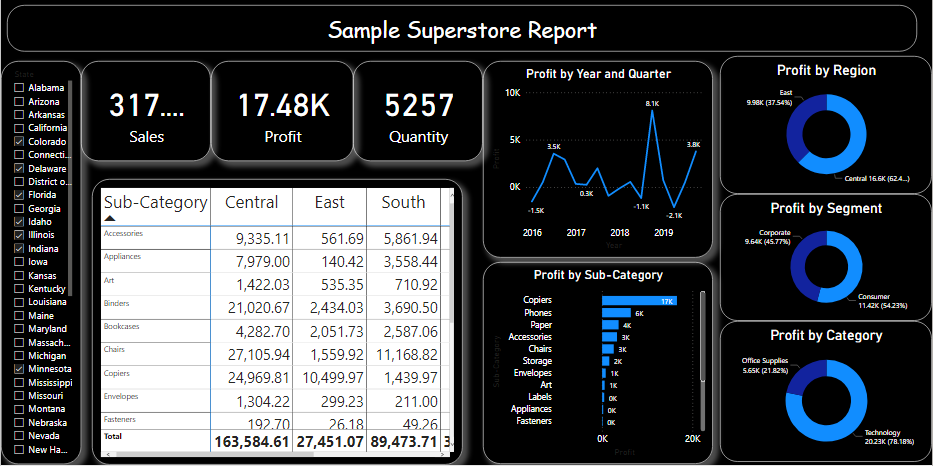

The dashboard page shown, as its layout file describes it:
{"tool":"powerbi","page":{"name":"10.1 Simple super store report","canvas":[1600,800],"ordinal":0},"visuals":[{"type":"textbox","box":[10.4,10.4,1564.4,80.1],"z":0},{"type":"donutChart","fields":{"Category":["Orders.Category"],"Y":["Sum(Orders.Profit)"]},"box":[1236.4,553.6,363.6,241.9],"z":1000},{"type":"donutChart","fields":{"Y":["Sum(Orders.Profit)"],"Category":["Orders.Segment"]},"box":[1236.4,335.4,363.6,218.2],"z":2000},{"type":"donutChart","fields":{"Y":["Sum(Orders.Profit)"],"Category":["Orders.Region"]},"box":[1236.4,98,363.6,237.5],"z":3000},{"type":"barChart","fields":{"Category":["Orders.Sub-Category"],"Y":["Sum(Orders.Profit)"]},"box":[828.2,452.7,394.8,347.3],"z":4000},{"type":"lineChart","fields":{"Category":["Orders.Order Date.Variation.Date Hierarchy.Year","Orders.Order Date.Variation.Date Hierarchy.Quarter","Orders.Order Date.Variation.Date Hierarchy.Month","Orders.Order Date.Variation.Date Hierarchy.Day"],"Y":["Sum(Orders.Profit)"]},"box":[828.2,106.9,394.8,338.4],"z":5000},{"type":"slicer","fields":{"Values":["Orders.State"]},"box":[0,106.9,138,693.1],"z":6000},{"type":"pivotTable","fields":{"Rows":["Orders.Sub-Category"],"Columns":["Orders.Region"],"Values":["Sum(Orders.Sales)"]},"box":[155.8,308.7,636.7,491.3],"z":7000},{"type":"card","fields":{"Values":["Sum(Orders.Sales)"]},"box":[138,106.9,222.6,172.2],"z":8000},{"type":"card","fields":{"Values":["Sum(Orders.Profit)"]},"box":[360.7,106.9,244.9,172.2],"z":9000},{"type":"card","fields":{"Values":["Sum(Orders.Quantity)"]},"box":[605.6,106.9,222.6,172.2],"z":10000}]}

Visuals, with their boxes in screenshot pixels (x1, y1, x2, y2), scaled from the page's 1600x800 canvas onto the 933x466 screenshot:
textbox: region(6, 6, 918, 53)
donutChart - Orders.Category x Sum(Orders.Profit): region(721, 322, 932, 463)
donutChart - Sum(Orders.Profit) x Orders.Segment: region(721, 195, 932, 322)
donutChart - Sum(Orders.Profit) x Orders.Region: region(721, 57, 932, 195)
barChart - Orders.Sub-Category x Sum(Orders.Profit): region(483, 264, 713, 465)
lineChart - Orders.Order Date.Variation.Date Hierarchy.Year x Orders.Order Date.Variation.Date Hierarchy.Quarter: region(483, 62, 713, 259)
slicer - Orders.State: region(0, 62, 80, 465)
pivotTable - Orders.Sub-Category x Orders.Region: region(91, 180, 462, 465)
card - Sum(Orders.Sales): region(80, 62, 210, 163)
card - Sum(Orders.Profit): region(210, 62, 353, 163)
card - Sum(Orders.Quantity): region(353, 62, 483, 163)
